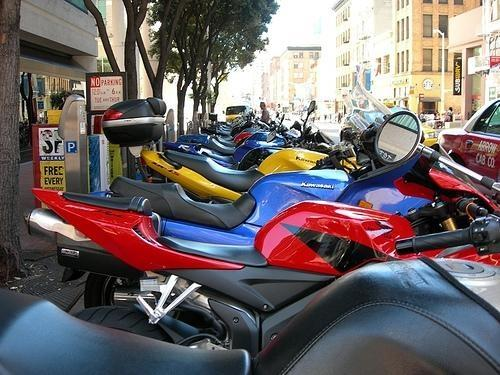car: (438, 101, 500, 182), (222, 106, 248, 122)
motorcycle: (20, 112, 500, 354), (0, 214, 500, 371), (105, 128, 381, 236), (142, 145, 360, 205), (162, 100, 333, 170), (204, 115, 285, 146), (178, 134, 258, 156), (222, 110, 248, 129), (217, 122, 247, 131), (226, 121, 231, 126)
